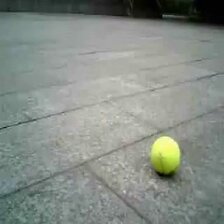tennis: (150, 136, 179, 170)
